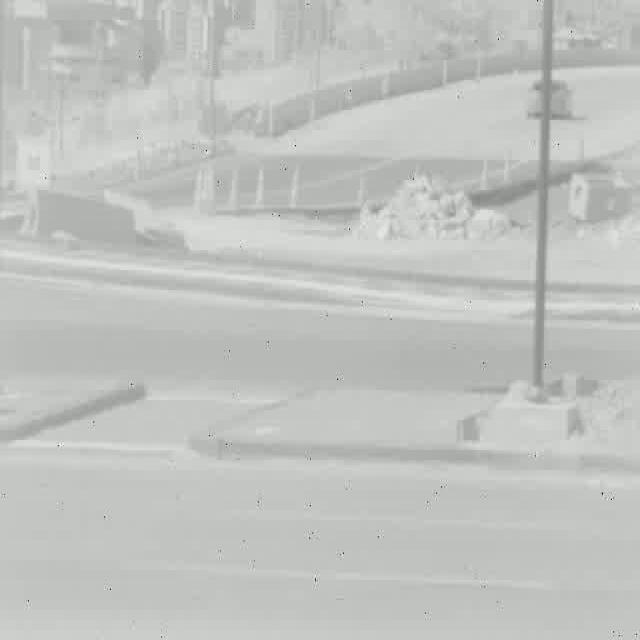Car: (528, 80, 570, 119)
